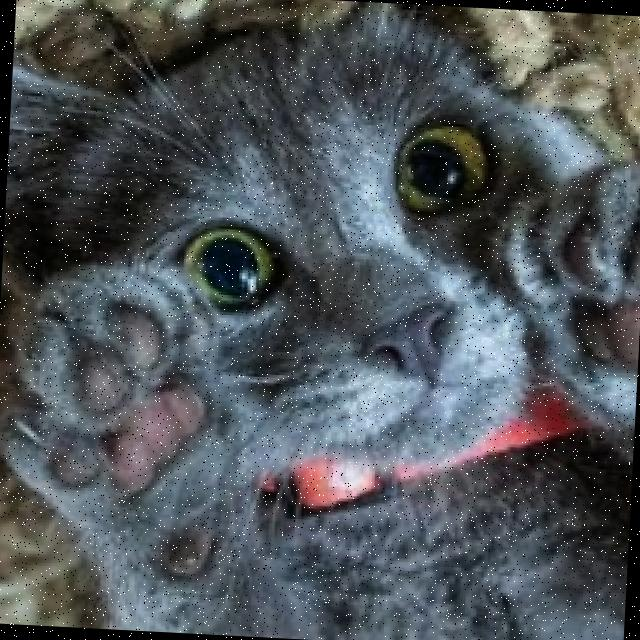Happy: (148, 74, 533, 493)
